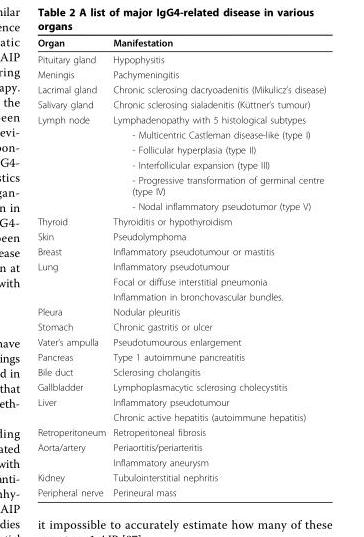table: (36, 36, 325, 497)
table column: (108, 36, 325, 497), (36, 36, 108, 497)
table column header: (36, 36, 325, 50)
table row: (36, 172, 325, 198), (36, 50, 325, 66), (36, 141, 325, 157), (36, 318, 325, 334), (36, 66, 325, 81), (36, 81, 325, 96), (36, 96, 325, 111), (36, 111, 325, 126), (36, 126, 325, 141), (36, 157, 325, 172), (36, 198, 325, 213), (36, 213, 325, 228), (36, 228, 325, 243), (36, 243, 325, 258), (36, 258, 325, 273), (36, 273, 325, 288), (36, 288, 325, 303), (36, 303, 325, 318), (36, 334, 325, 349), (36, 349, 325, 364), (36, 364, 325, 379), (36, 379, 325, 394), (36, 394, 325, 409), (36, 409, 325, 424), (36, 424, 325, 439), (36, 439, 325, 454), (36, 454, 325, 469), (36, 469, 325, 484), (36, 36, 325, 50), (36, 484, 325, 497)
table spanning cell: (36, 111, 108, 213), (36, 258, 108, 303), (36, 394, 108, 424), (36, 439, 108, 469)
